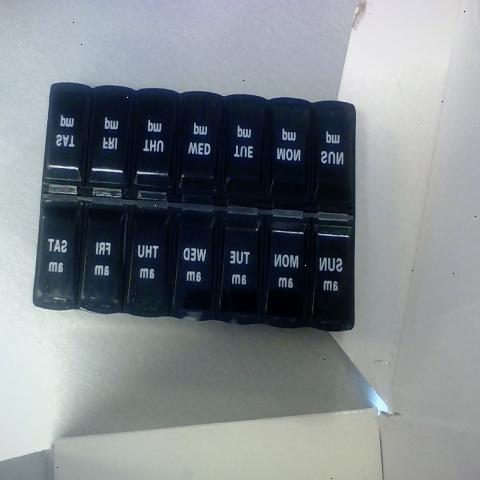FRI-am: (84, 210, 120, 305)
FRI-pm: (89, 88, 127, 196)
MON-am: (265, 222, 308, 325)
MON-pm: (264, 95, 306, 206)
SAT-am: (38, 205, 78, 301)
SAT-pm: (49, 85, 85, 189)
SUN-am: (312, 227, 346, 325)
SUN-pm: (313, 99, 350, 211)
THU-am: (125, 210, 166, 305)
THU-pm: (128, 90, 169, 198)
TUE-am: (217, 214, 258, 318)
TUE-pm: (218, 96, 261, 206)
WED-am: (172, 208, 213, 312)
WED-pm: (170, 89, 211, 202)
